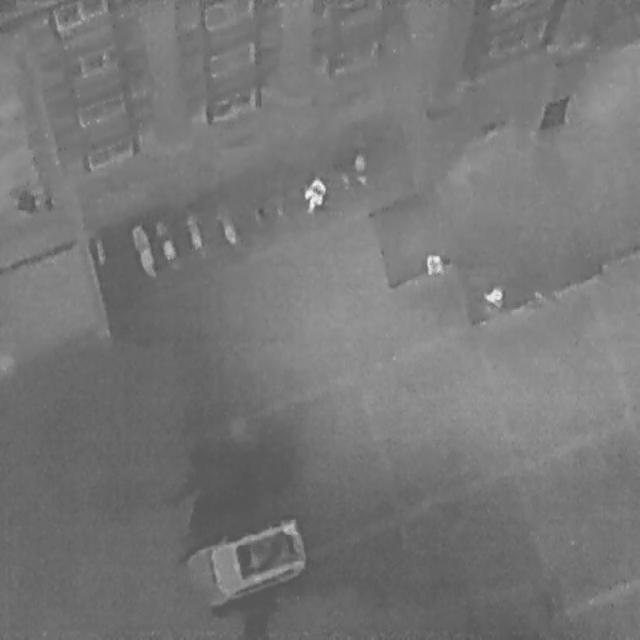Bicycle: (128, 218, 161, 282), (150, 214, 180, 268), (211, 198, 240, 248), (180, 206, 206, 254), (250, 195, 272, 225), (351, 149, 368, 185)
Car: (173, 510, 311, 618)
Person: (298, 174, 328, 218), (481, 284, 504, 308), (425, 252, 443, 276)
